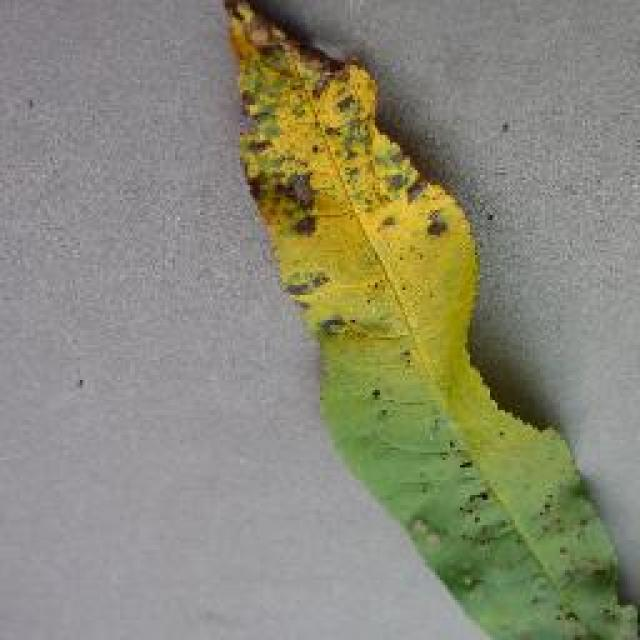Peach_Bacterial_Spot: (242, 8, 582, 592)
